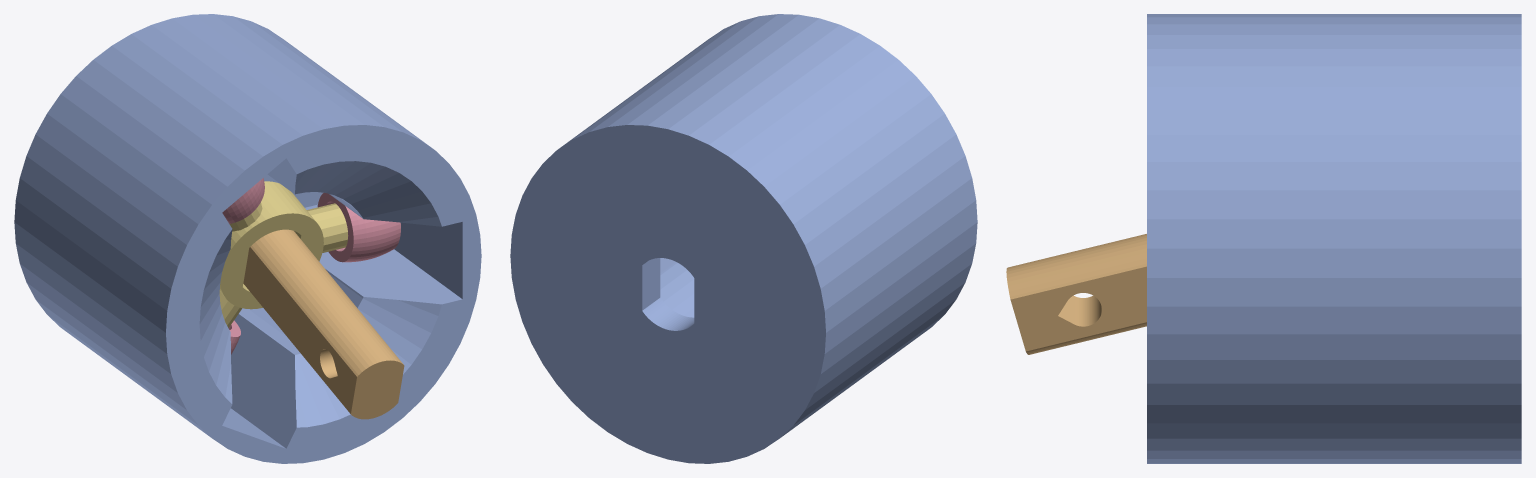
File: tripod_cv_joint_demo.glb
3 renders of one model, left to right at view 1: azimuth 30°, elevation 25°; view 2: azimuth 150°, elevation 25°; view 3: azimuth 270°, elevation 25°, orthographic. The views are drawn at different scales.
Visible parts, largest first — view 1: tulip_housing, tripod_input_shaft, tripod_spider, crowned_barrels; view 2: tulip_housing; view 3: tulip_housing, tripod_input_shaft.
Boxes of the visible parts, x1,y1,x2,y2 form: tulip_housing: (14,14,481,463); tripod_input_shaft: (243,229,404,419); tripod_spider: (219,181,348,327); crowned_barrels: (222,178,400,354); tulip_housing: (510,14,977,463); tulip_housing: (1147,14,1521,463); tripod_input_shaft: (1006,234,1146,354).
Bounding box in the file's own units: 40 × 40 × 45.74.
